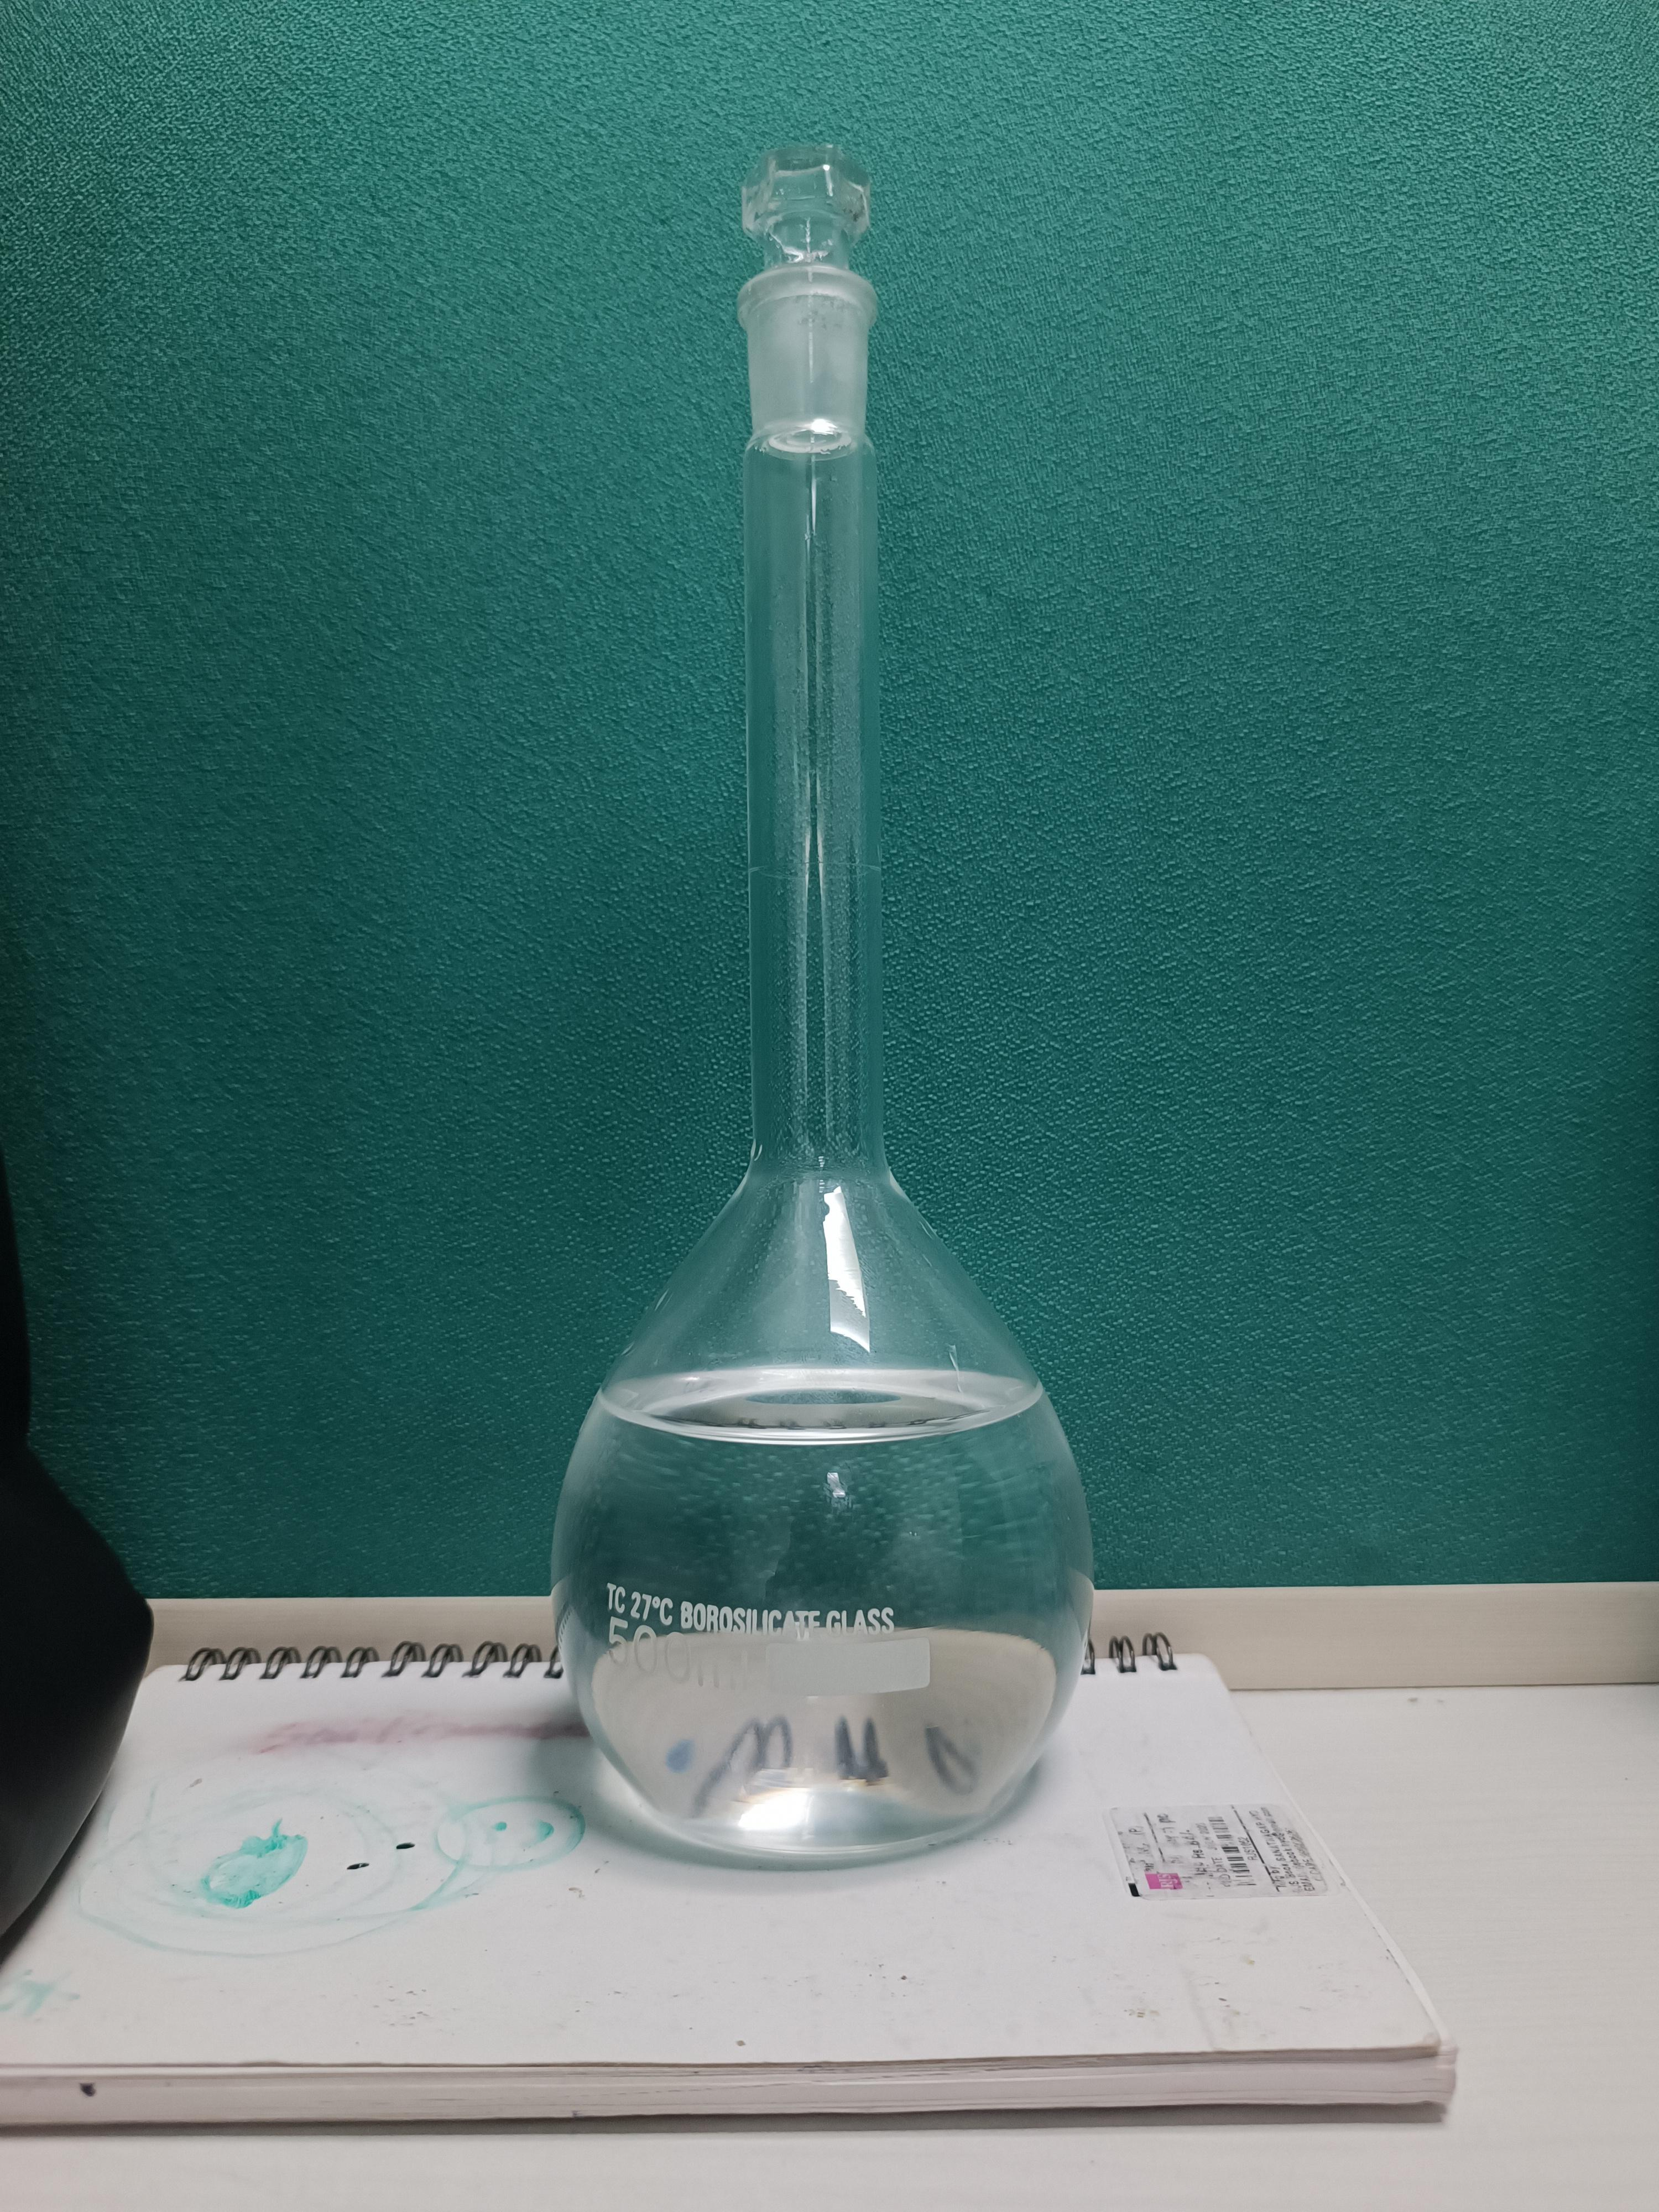Volumetric flask: (511, 129, 1122, 1864)
